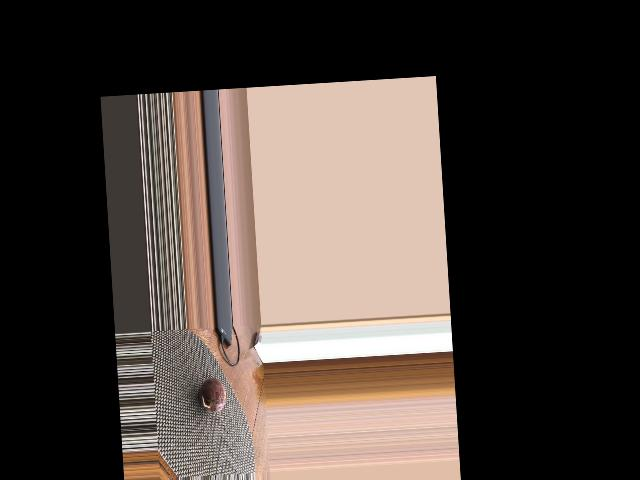beet: (198, 376, 226, 412)
